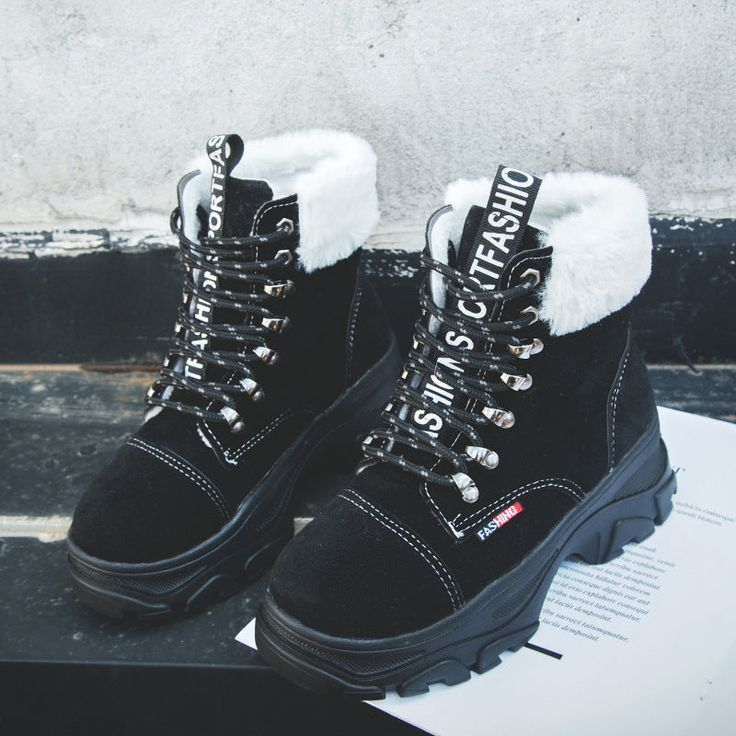gamuza: (70, 174, 655, 641)
